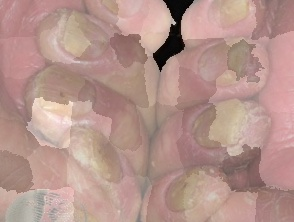Nail_psoriasis: (8, 52, 131, 166), (165, 82, 282, 181), (28, 0, 149, 90), (55, 110, 155, 216), (178, 35, 269, 99), (142, 163, 233, 222), (189, 0, 267, 39), (80, 0, 159, 31)
